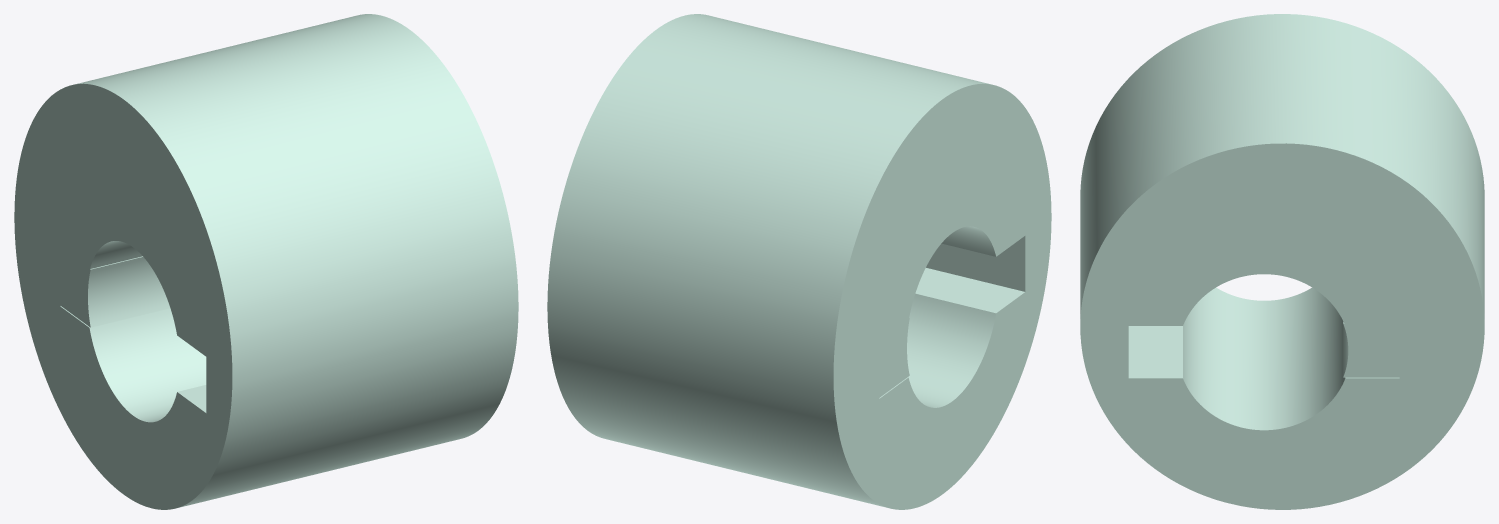
3 views of the same model, side by side, from view 1: azimuth 30°, elevation 25°; view 2: azimuth 150°, elevation 25°; view 3: azimuth 270°, elevation 25° (orthographic). The views are drawn at different scales.
Visible parts, largest first — view 1: Renderer Node; view 2: Renderer Node; view 3: Renderer Node.
Boxes of the visible parts, x1,y1,x2,y2 form: Renderer Node: (14, 14, 518, 509); Renderer Node: (547, 14, 1051, 509); Renderer Node: (1080, 14, 1484, 509).
Bounding box in the file's own units: 0.5234 × 0.6908 × 0.6909.
